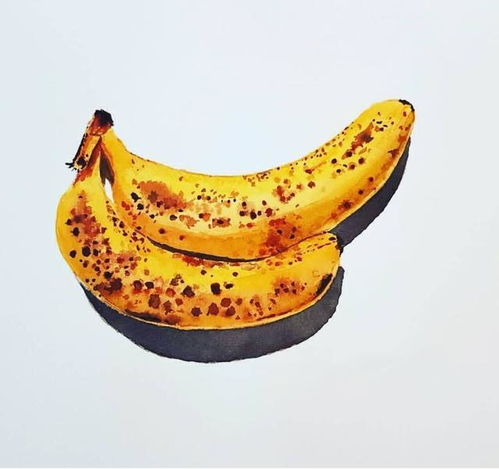Other: (57, 139, 340, 328), (97, 99, 415, 260)
